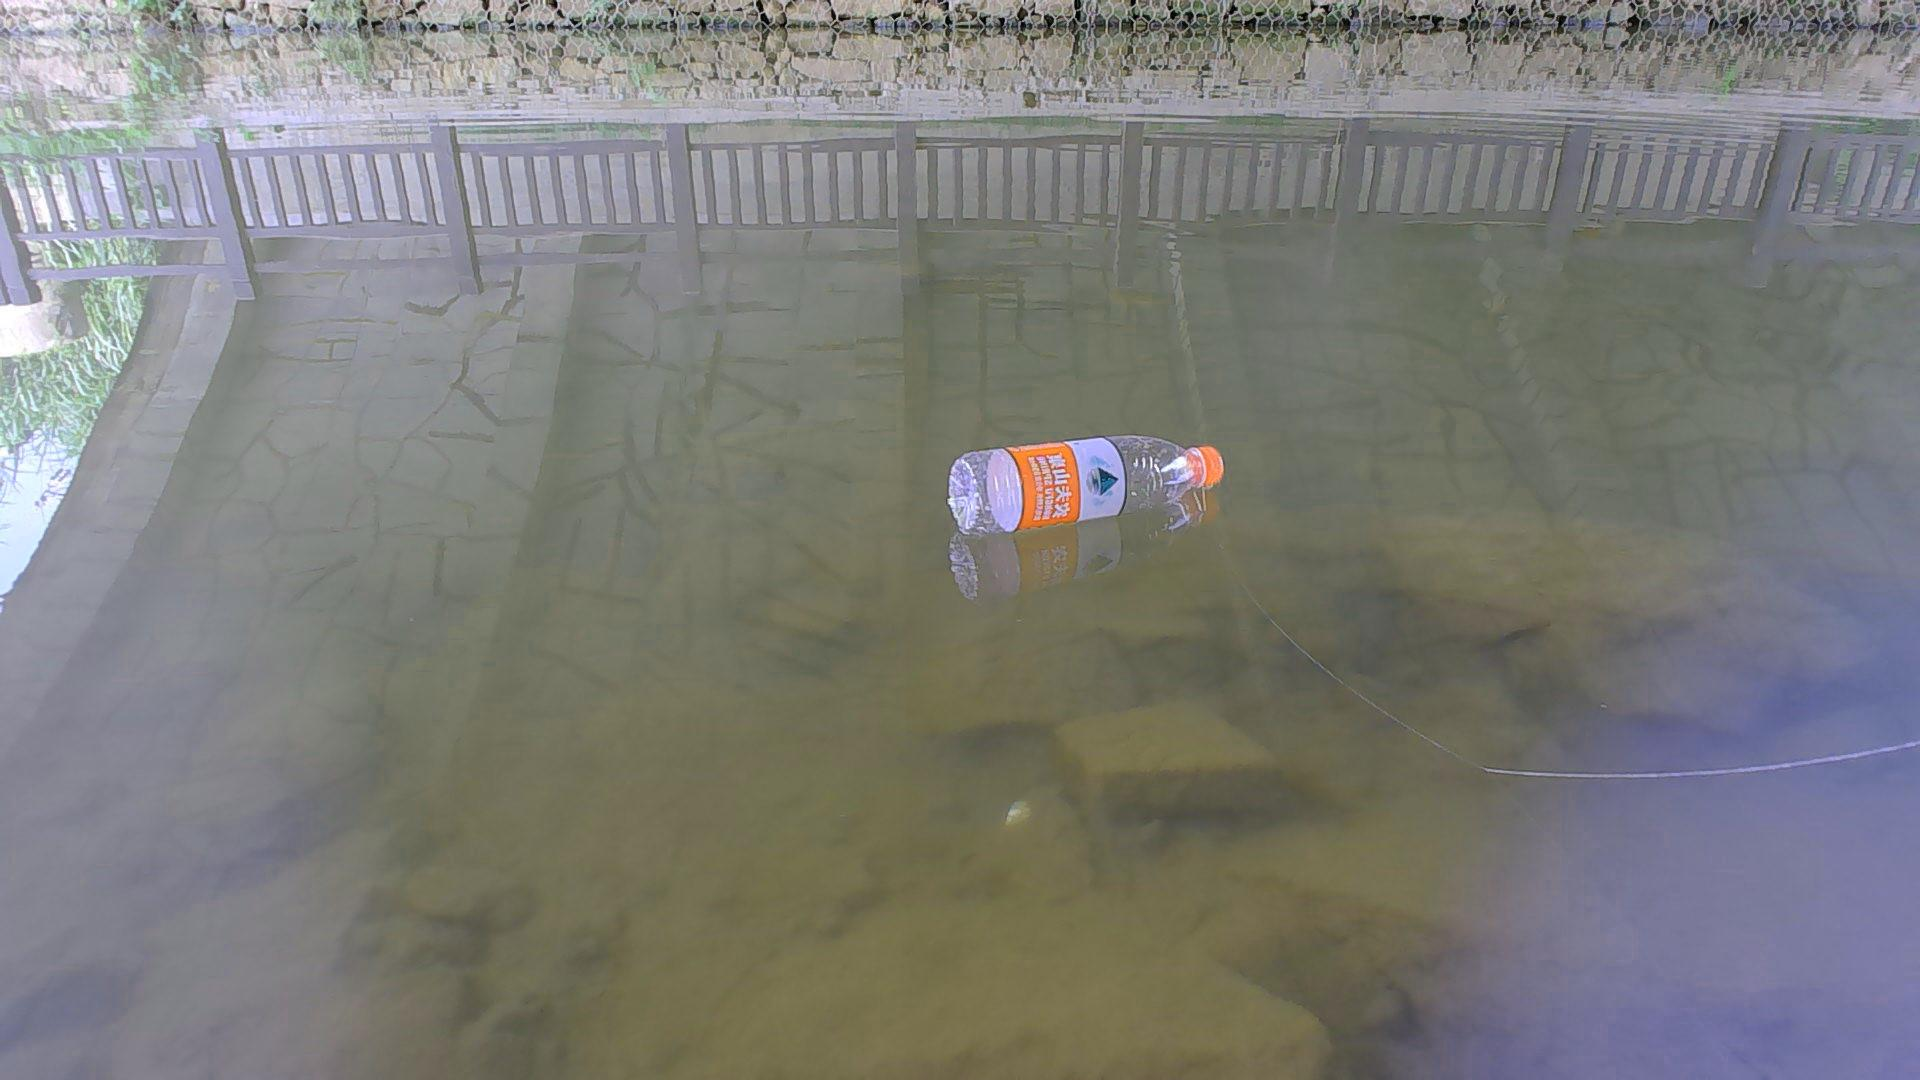Plastic: (945, 427, 1228, 535)
